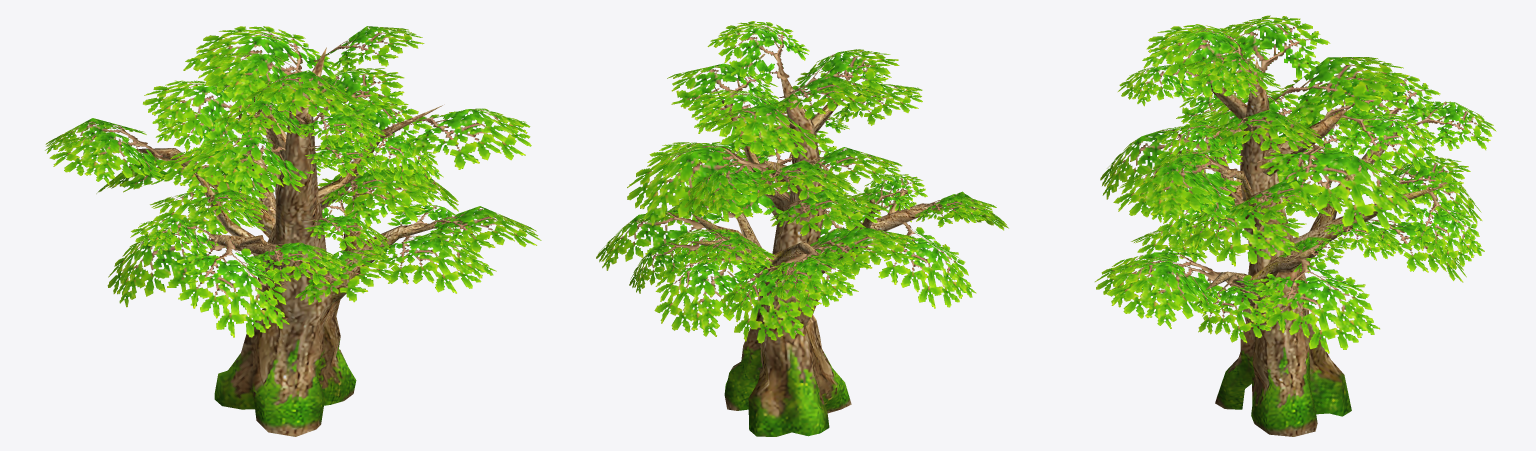
The model's file is tree_a.FBX.
3 views of the same model, side by side, from view 1: azimuth 30°, elevation 25°; view 2: azimuth 150°, elevation 25°; view 3: azimuth 270°, elevation 25° (orthographic). The views are drawn at different scales.
Parts seen in each view (by area): view 1: tree_a_leves, tree_a; view 2: tree_a_leves, tree_a; view 3: tree_a_leves, tree_a.
Boxes of the visible parts, x1,y1,x2,y2 form: tree_a_leves: (45,26,541,337); tree_a: (136,47,445,436); tree_a_leves: (596,21,1008,343); tree_a: (687,63,941,436); tree_a_leves: (1095,15,1496,353); tree_a: (1177,59,1447,436).
Bounding box in the file's own units: 627 × 560 × 597.
